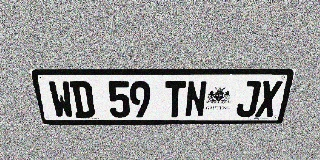5: (108, 81, 131, 118)
9: (129, 81, 151, 118)
D: (70, 81, 95, 118)
J: (235, 80, 262, 117)
N: (185, 81, 208, 117)
T: (165, 81, 186, 117)
W: (47, 81, 75, 118)
X: (255, 80, 283, 117)
